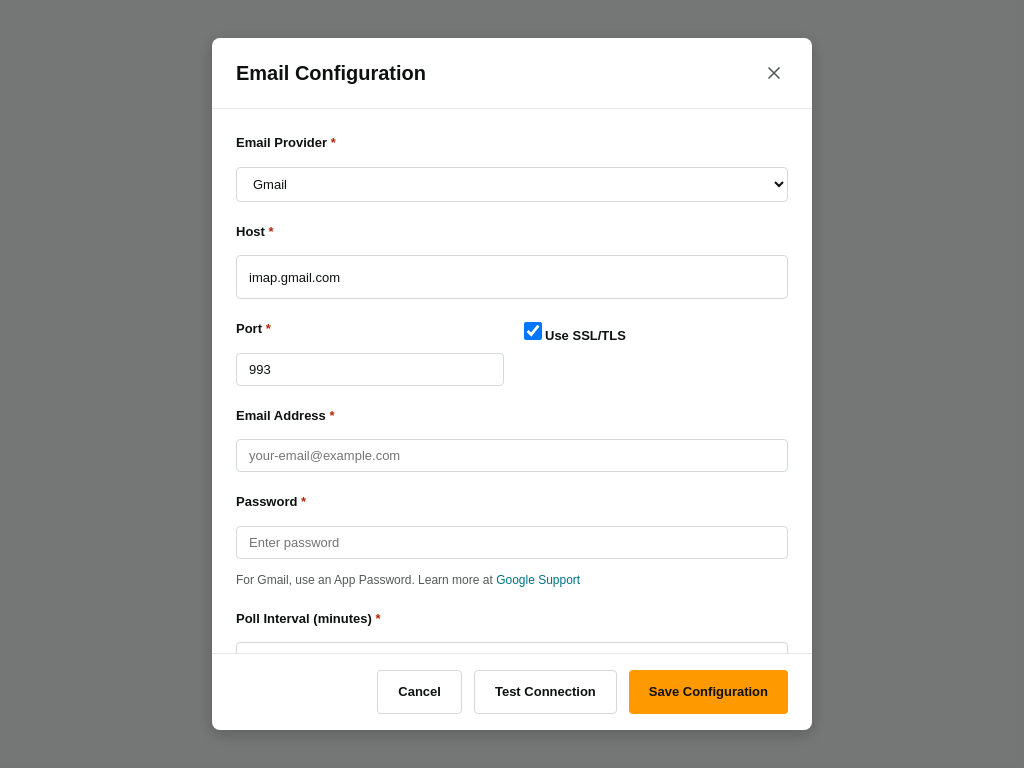
Test: EmailConfigDialog › Form Validation › should show error when port is invalid
The image size is (1024, 768).
Replace the text in the number field labelled "Port *" with "0" at (370, 369), box [236,353,504,386]
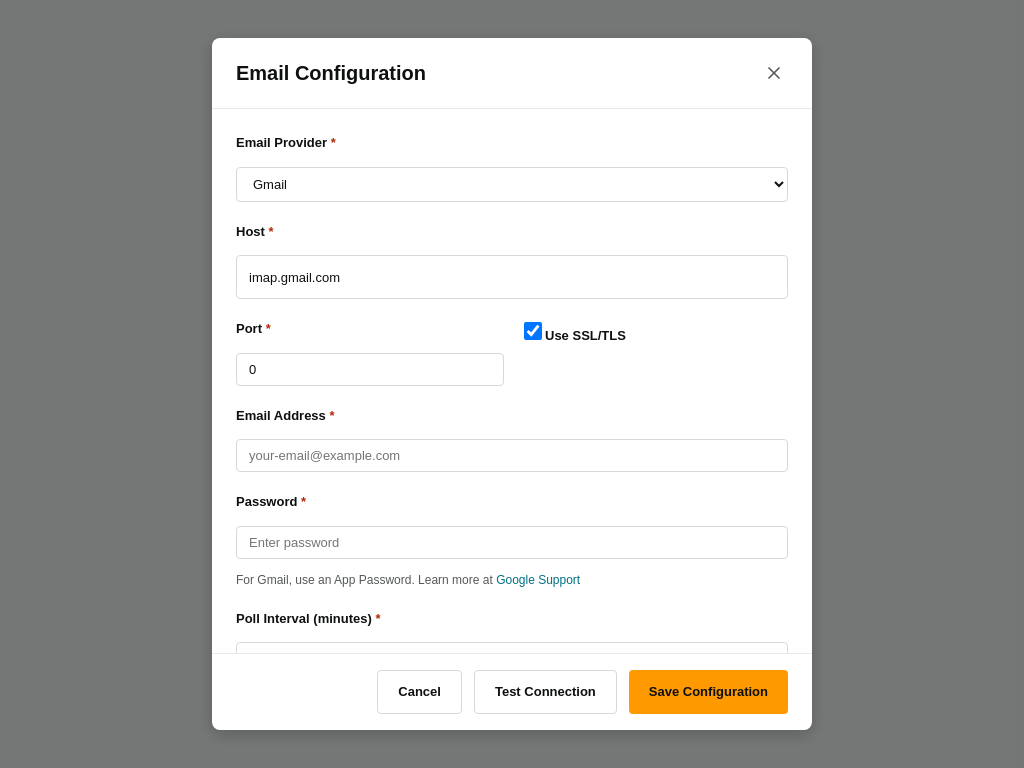
Click the button "Save Configuration" at (708, 692), box [629,670,788,714]
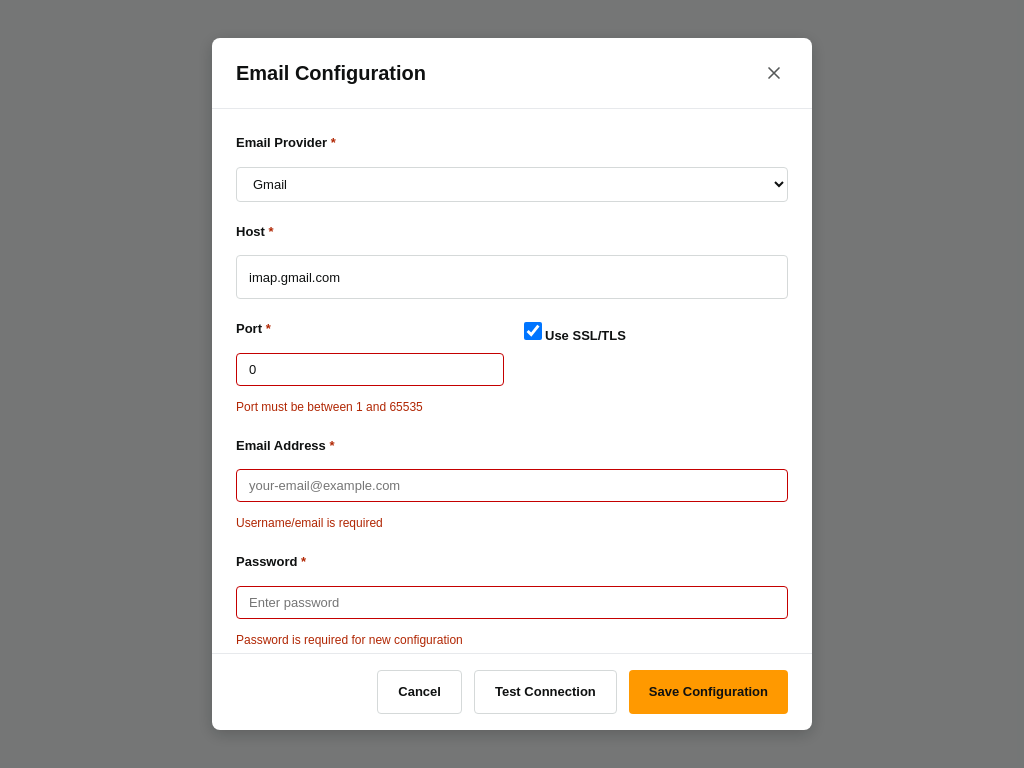
Check: the text "Port must be between 1 and 65535" is shown, box [236,400,423,414]
